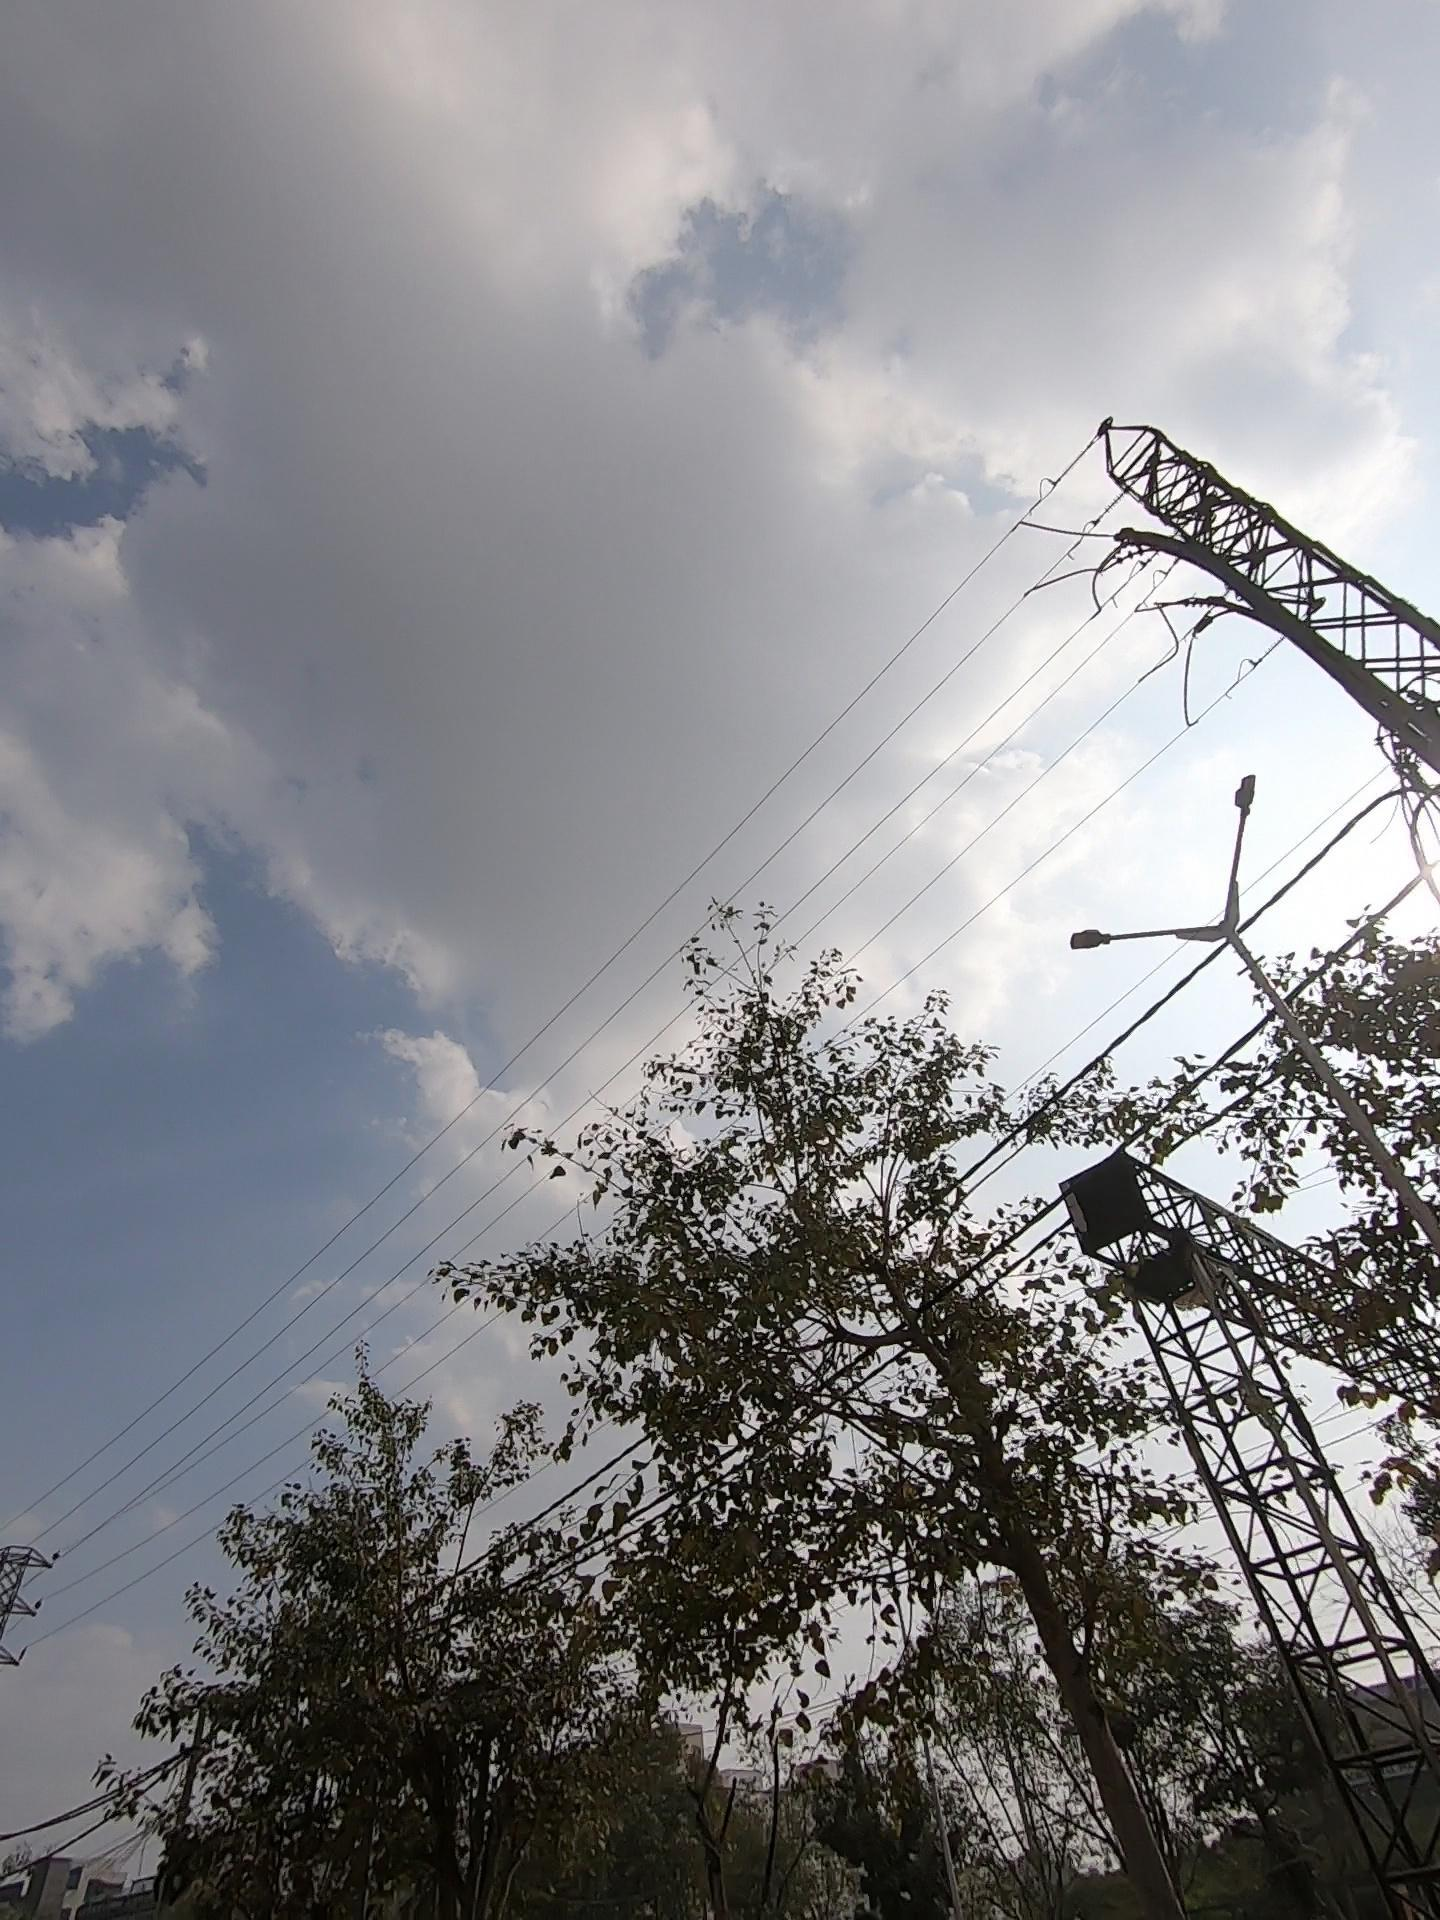off: (961, 686, 1351, 1075)
